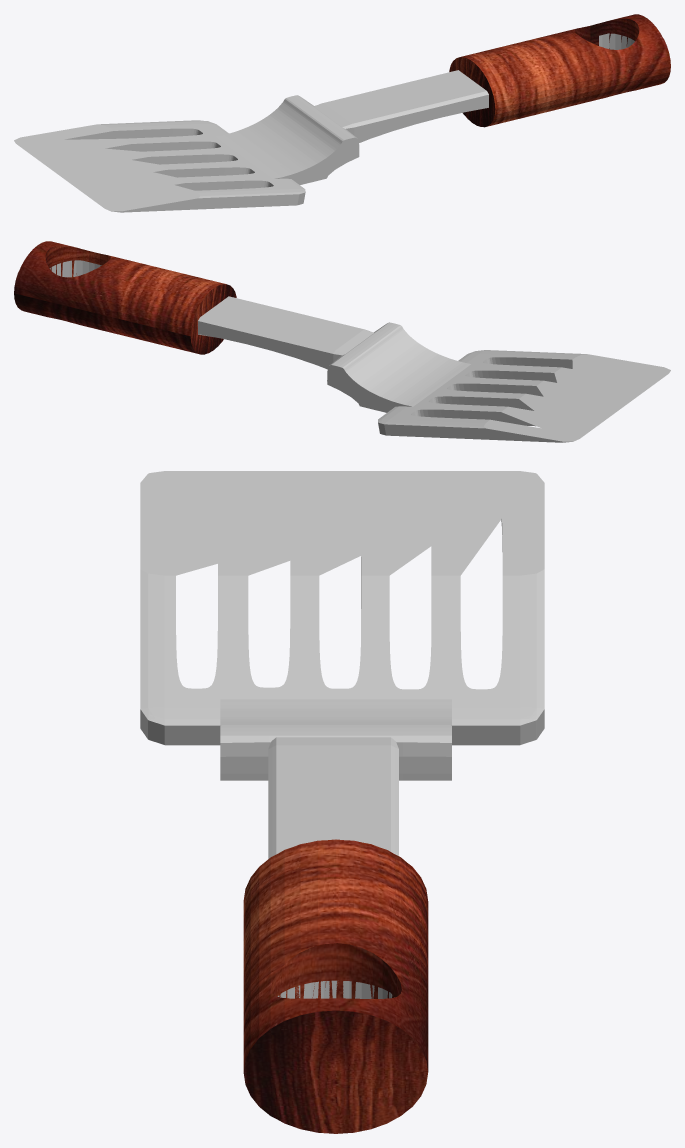
The model's file is Textura-Palita.obj.
The picture shows the model from 3 angles, top to bottom: view 1: azimuth 30°, elevation 25°; view 2: azimuth 150°, elevation 25°; view 3: azimuth 270°, elevation 25°; orthographic projection. The views are drawn at different scales.
Parts seen in each view (by area): view 1: Cube, Cylinder, Cube.001, Cube.002; view 2: Cube, Cylinder, Cube.001, Cube.002; view 3: Cube, Cylinder, Cube.002, Cube.001.
Part boxes in pixels (bbox=[...]): Cube: bbox=[14, 120, 305, 212]; Cylinder: bbox=[449, 14, 670, 127]; Cube.001: bbox=[216, 95, 359, 184]; Cube.002: bbox=[314, 33, 634, 142]; Cube: bbox=[378, 350, 670, 442]; Cylinder: bbox=[14, 241, 236, 354]; Cube.001: bbox=[327, 322, 470, 412]; Cube.002: bbox=[49, 260, 373, 369]; Cube: bbox=[140, 471, 544, 745]; Cylinder: bbox=[243, 839, 428, 1133]; Cube.002: bbox=[268, 737, 398, 998]; Cube.001: bbox=[220, 699, 451, 780].
Bounding box in the file's own units: 20.68 × 2.09 × 6.18.
